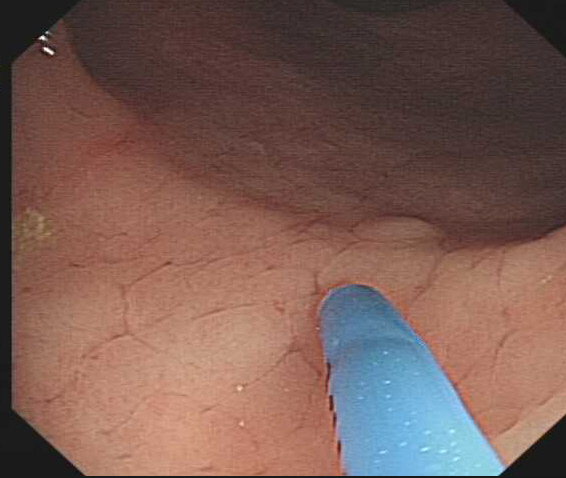others: (348, 209, 445, 246)
